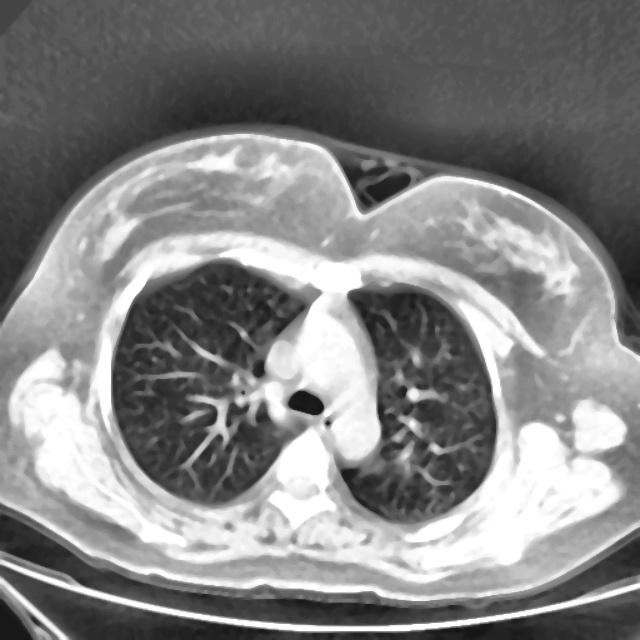covid: (0, 123, 639, 615)
